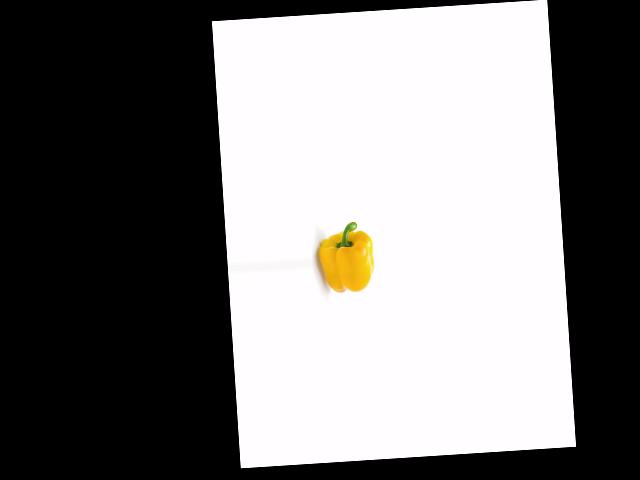bell_pepper: (316, 214, 378, 296)
